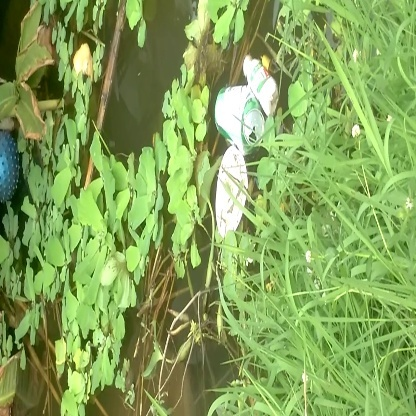bottle: (237, 50, 286, 115)
